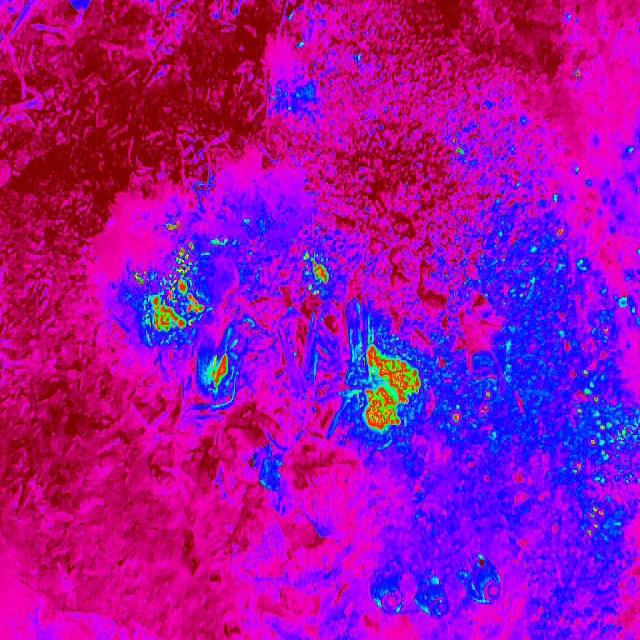fire: (543, 208, 640, 554), (131, 243, 206, 339), (358, 343, 422, 435), (448, 382, 497, 436), (302, 248, 336, 298), (202, 350, 235, 390), (453, 133, 468, 161), (569, 64, 585, 82), (164, 223, 182, 235)
